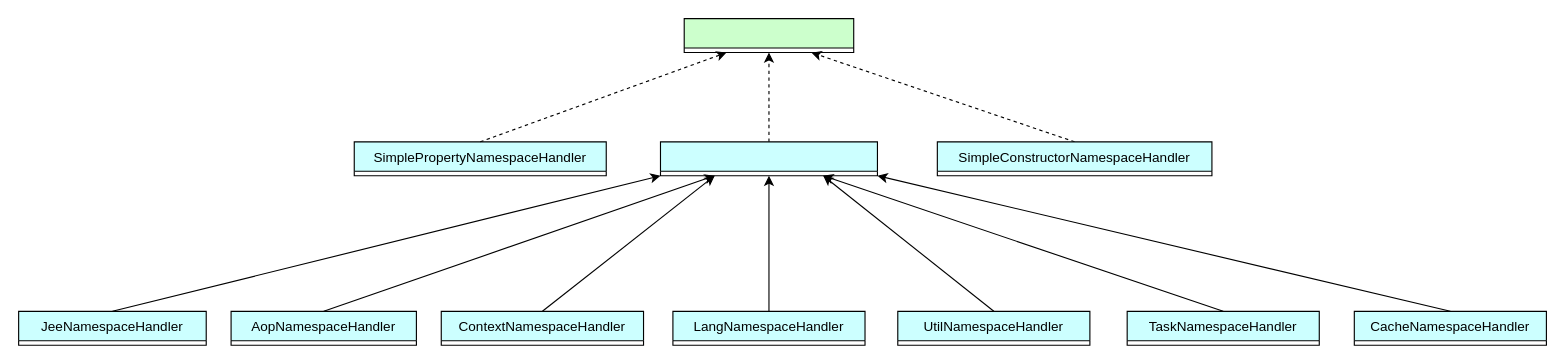
The diagram is 1565 pixels wide and 364 high, and some of its shapes have lost their labels. The shapes that lost their labels are listed below. From the top down, each one's centre as x and y in pixels, then its label:
the point at 768,35: NamespaceHandler
the point at 768,158: NamespaceHandlerSupport
